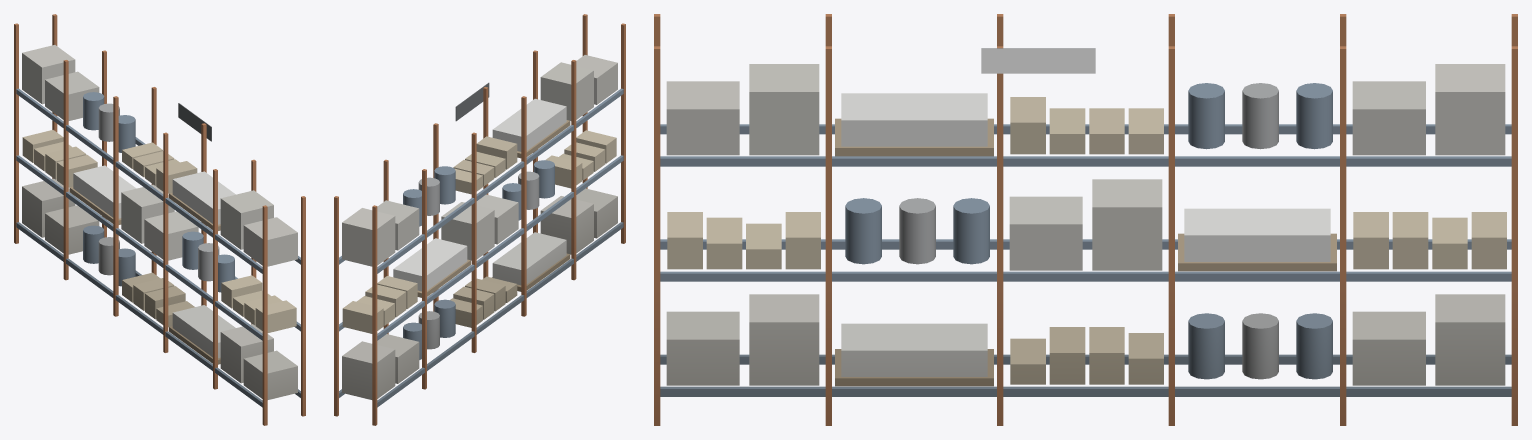
Rendered from racks.glb.
The picture shows the model from 3 angles, left to right: view 1: azimuth 30°, elevation 25°; view 2: azimuth 150°, elevation 25°; view 3: azimuth 270°, elevation 25°; orthographic projection. The views are drawn at different scales.
Visible parts, largest first — view 1: racks; view 2: racks; view 3: racks.
Part boxes in pixels (x1,y1,x2,y2): racks: [14, 14, 305, 425]; racks: [334, 14, 625, 425]; racks: [654, 14, 1517, 425].
Bounding box in the file's own units: 1.33 × 6.57 × 13.6.
